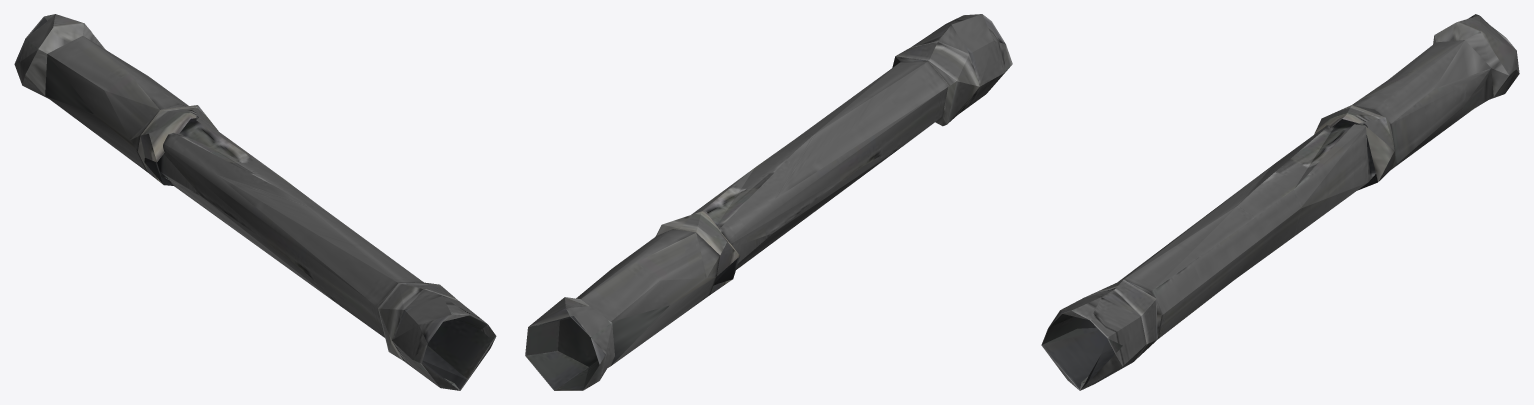
The model's file is shared_defence_battery__barrel_lod2.glb.
3 renders of one model, left to right at view 1: azimuth 30°, elevation 25°; view 2: azimuth 150°, elevation 25°; view 3: azimuth 330°, elevation 25°, orthographic.
Visible parts, largest first — view 1: mesh_node; view 2: mesh_node; view 3: mesh_node.
Part boxes in pixels (x1,y1,x2,y2): mesh_node: [14, 14, 496, 390]; mesh_node: [525, 14, 1012, 390]; mesh_node: [1041, 14, 1519, 390].
Bounding box in the file's own units: 1.38 × 1.39 × 12.19.
1 material, 1 textured.
